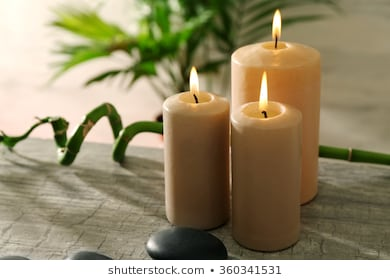Fire: (266, 6, 290, 43), (183, 62, 205, 100), (254, 69, 272, 113)
